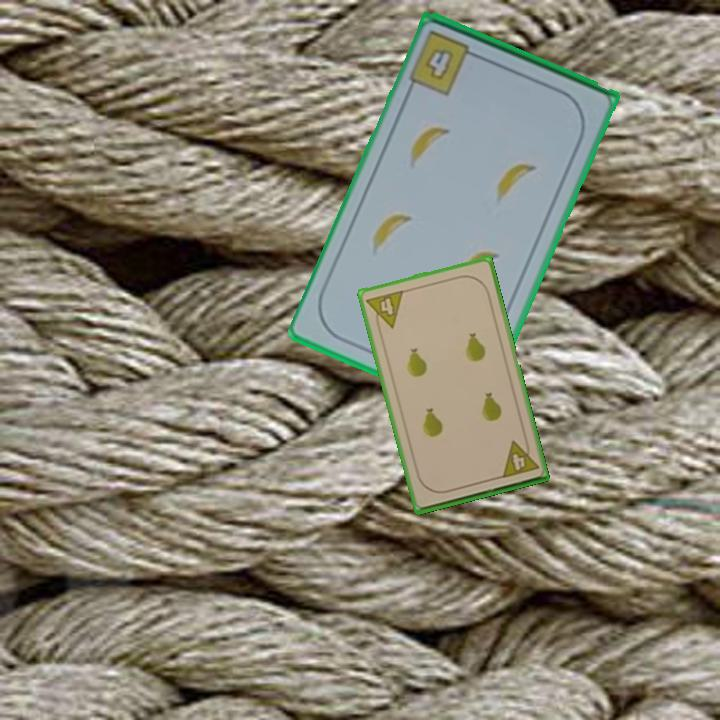4b: (409, 27, 484, 99)
4p: (363, 286, 407, 334), (498, 435, 541, 481)
